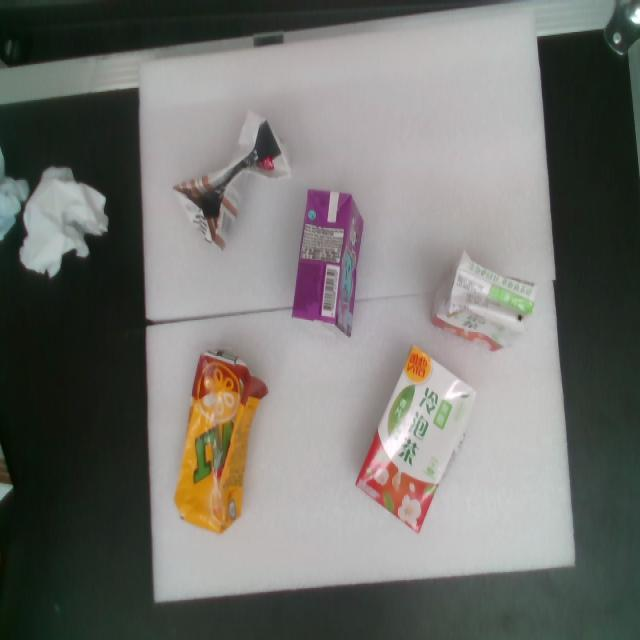juicebox: (332, 332, 503, 552), (144, 98, 320, 271), (155, 341, 279, 548), (278, 175, 388, 350), (414, 241, 548, 370)
paper: (17, 147, 120, 290)
